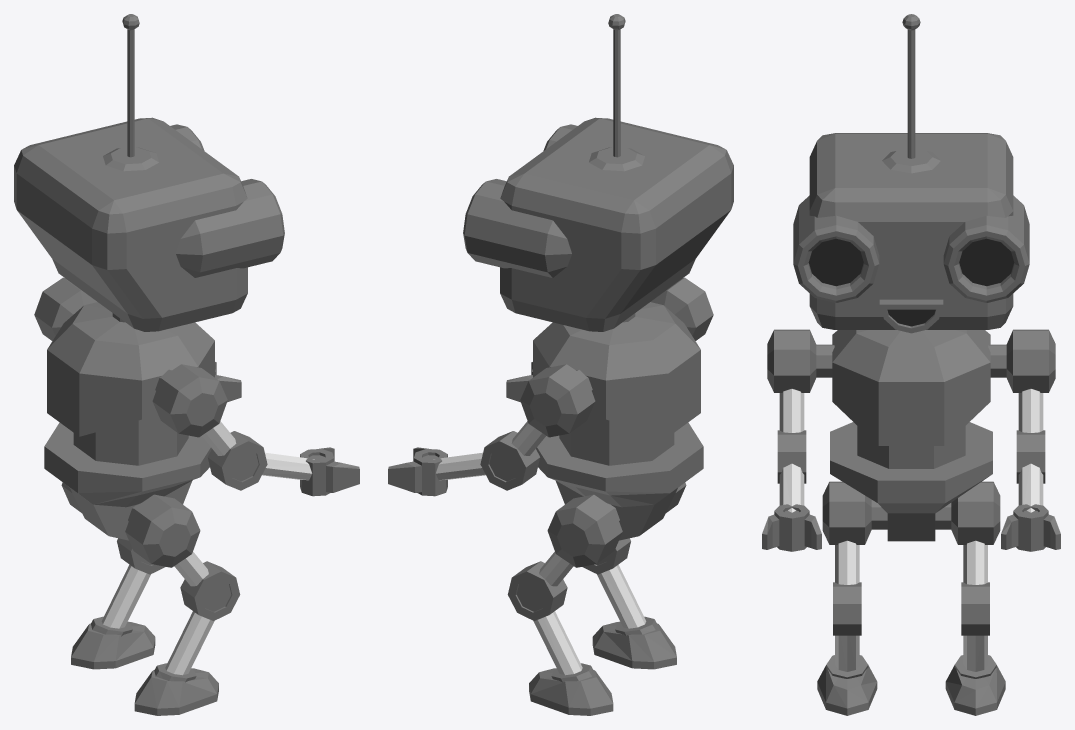
The model's file is 1332 Robot.gltf.
The picture shows the model from 3 angles, left to right: view 1: azimuth 30°, elevation 25°; view 2: azimuth 150°, elevation 25°; view 3: azimuth 270°, elevation 25°; orthographic projection.
Visible parts, largest first — view 1: node-0; view 2: node-0; view 3: node-0.
Boxes of the visible parts, left/top/right/bottom form: node-0: left=14, top=14, right=359, bottom=715; node-0: left=388, top=14, right=733, bottom=715; node-0: left=762, top=14, right=1060, bottom=715.
Bounding box in the file's own units: 41.61 × 113 × 45.63.
Materials: 1 (1 with a texture image).
